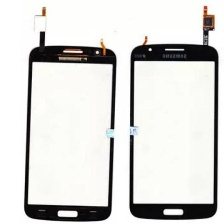phone: (20, 42, 119, 223), (128, 41, 220, 221)
